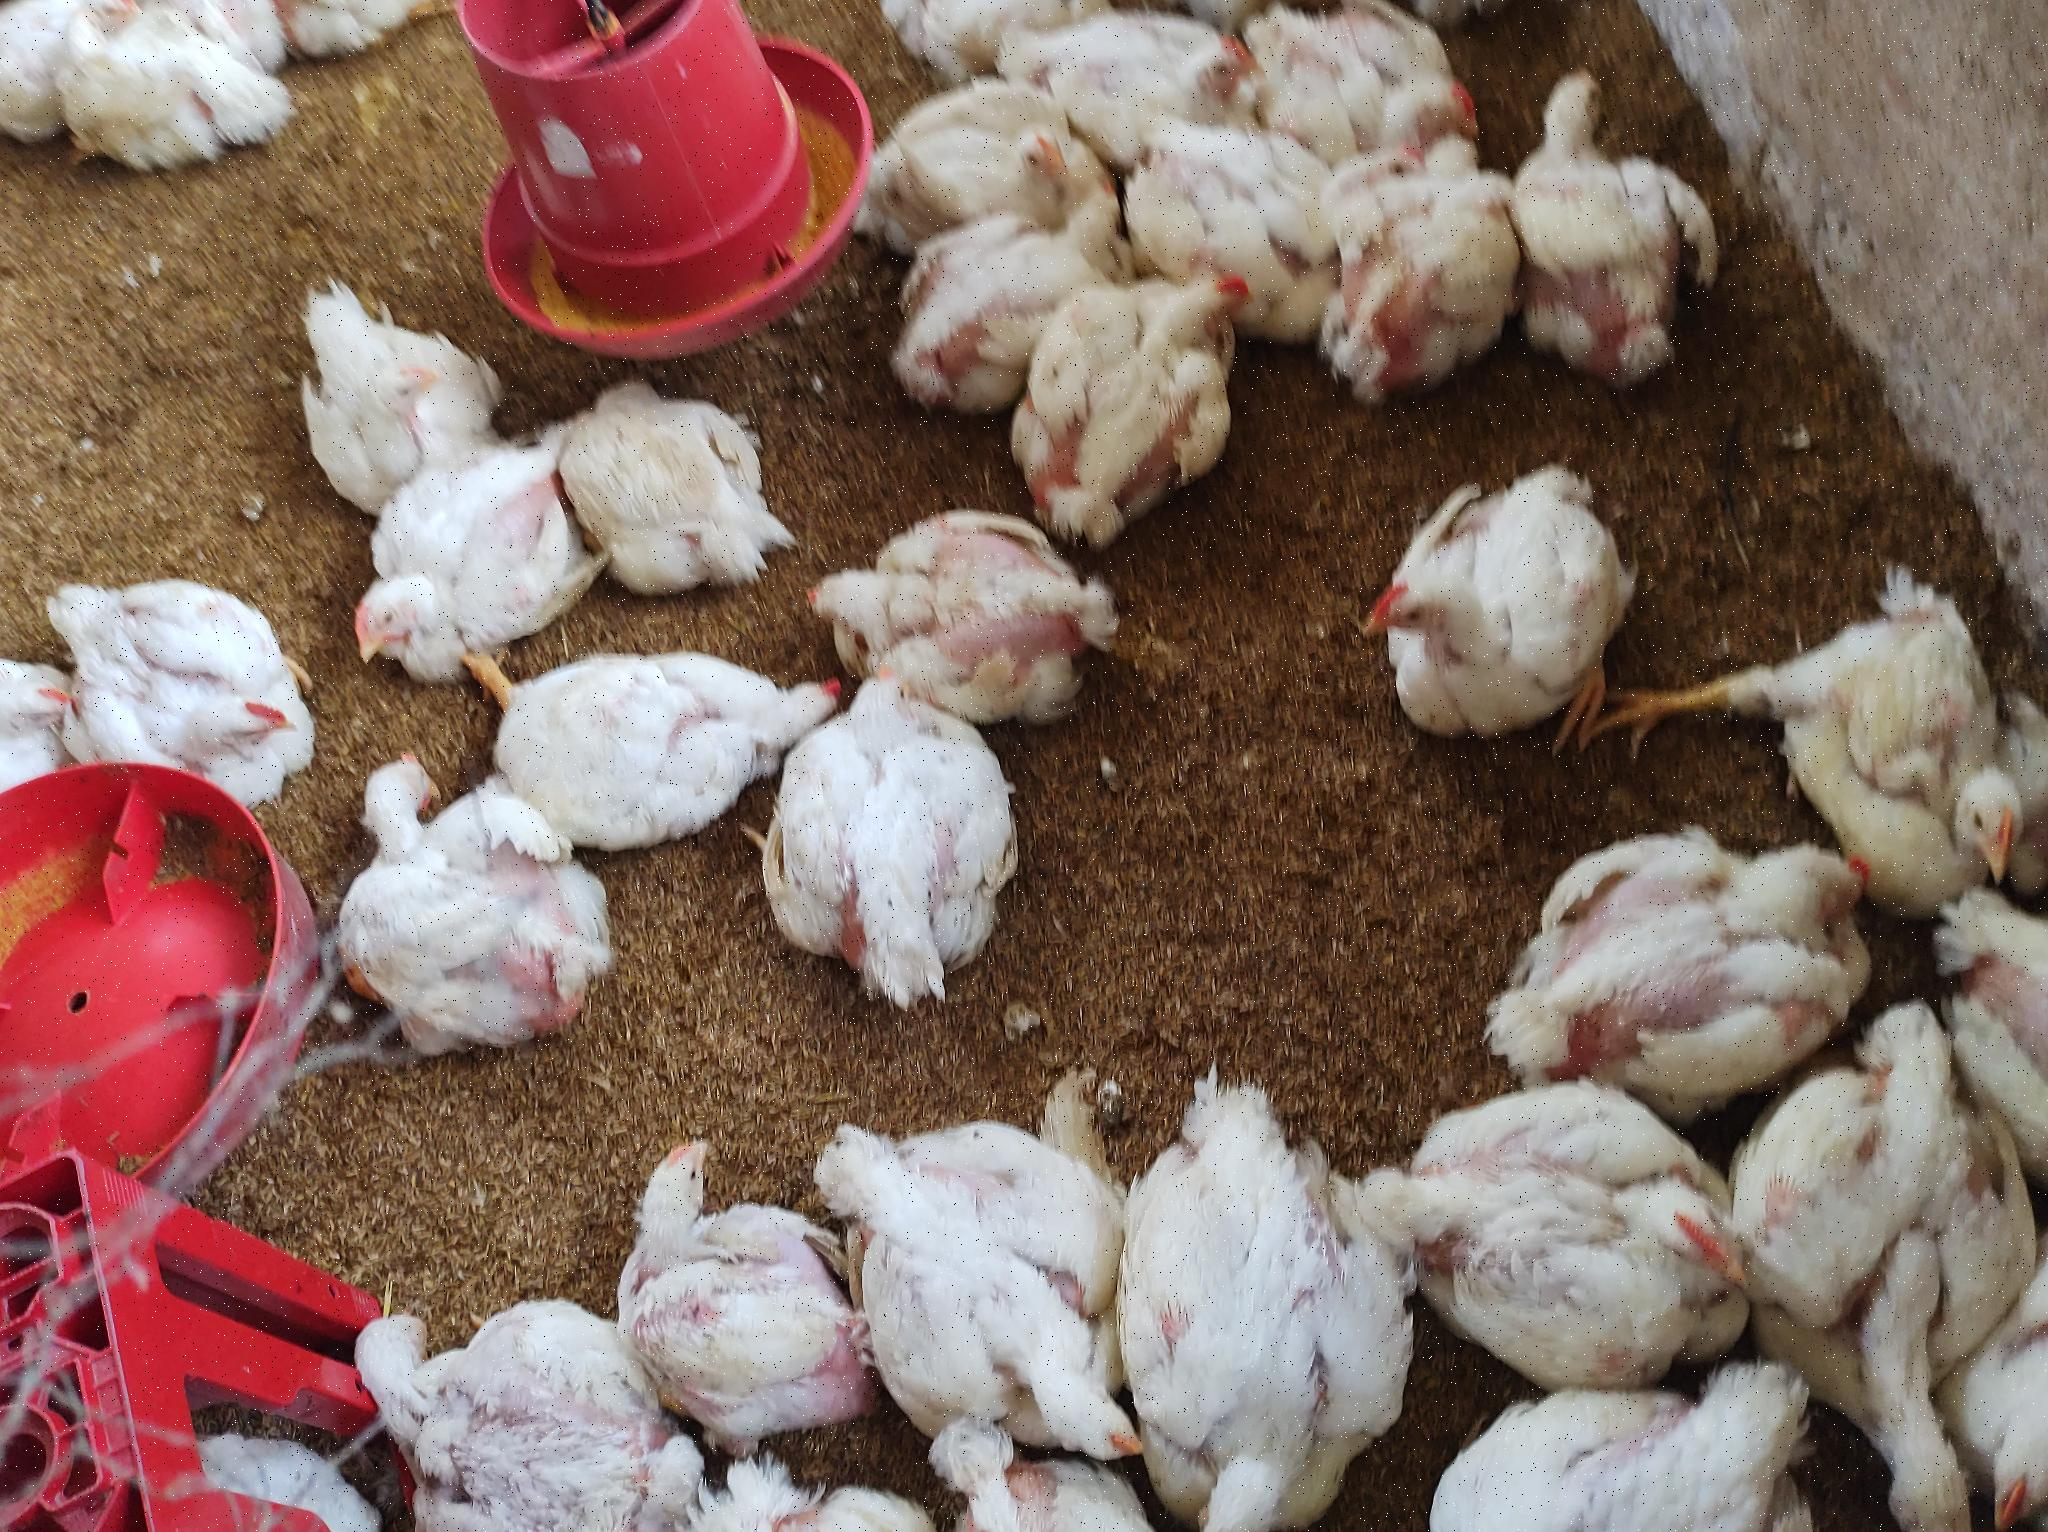Pollos: (845, 1075, 1158, 1484), (1129, 1096, 1393, 1530), (1487, 801, 1874, 1075), (787, 653, 1063, 991), (309, 755, 602, 1069), (1783, 583, 2048, 903), (1361, 463, 1643, 747), (624, 1110, 866, 1427), (471, 650, 843, 842), (558, 336, 820, 607), (1458, 1080, 1733, 1337), (348, 1292, 627, 1532), (351, 428, 581, 703), (56, 552, 309, 800), (1438, 1371, 1820, 1532), (861, 480, 1117, 719), (1543, 58, 1726, 385), (1026, 280, 1260, 509), (1322, 174, 1519, 404), (1831, 1260, 1995, 1532), (899, 230, 1099, 385), (286, 304, 470, 465), (1015, 19, 1269, 121), (1964, 888, 2048, 1168), (923, 106, 1108, 232), (1380, 42, 1512, 156), (1353, 142, 1454, 232), (1968, 1435, 2048, 1532), (40, 2, 142, 77)
